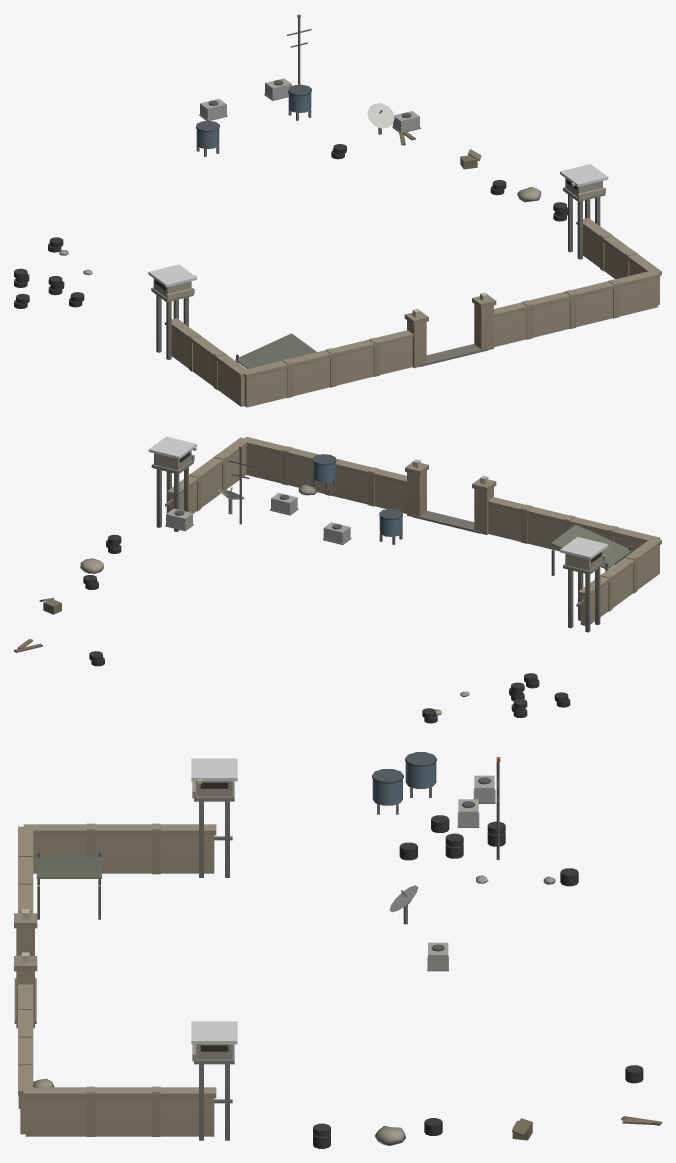
Rendered from m_factory_805f0d03.glb.
3 views of the same model, one above another, from view 1: azimuth 30°, elevation 25°; view 2: azimuth 150°, elevation 25°; view 3: azimuth 270°, elevation 25° (orthographic). The views are drawn at different scales.
Visible parts, largest first — view 1: mesh; view 2: mesh; view 3: mesh.
Boxes of the visible parts, left/top/right/bottom form: mesh: left=14, top=14, right=661, bottom=407; mesh: left=14, top=436, right=661, bottom=723; mesh: left=14, top=752, right=661, bottom=1148.
Size of the model in its own units: 106 by 40.15 by 89.22.
